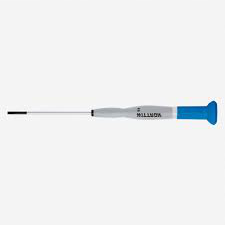Screwdriver: (6, 89, 219, 145)
